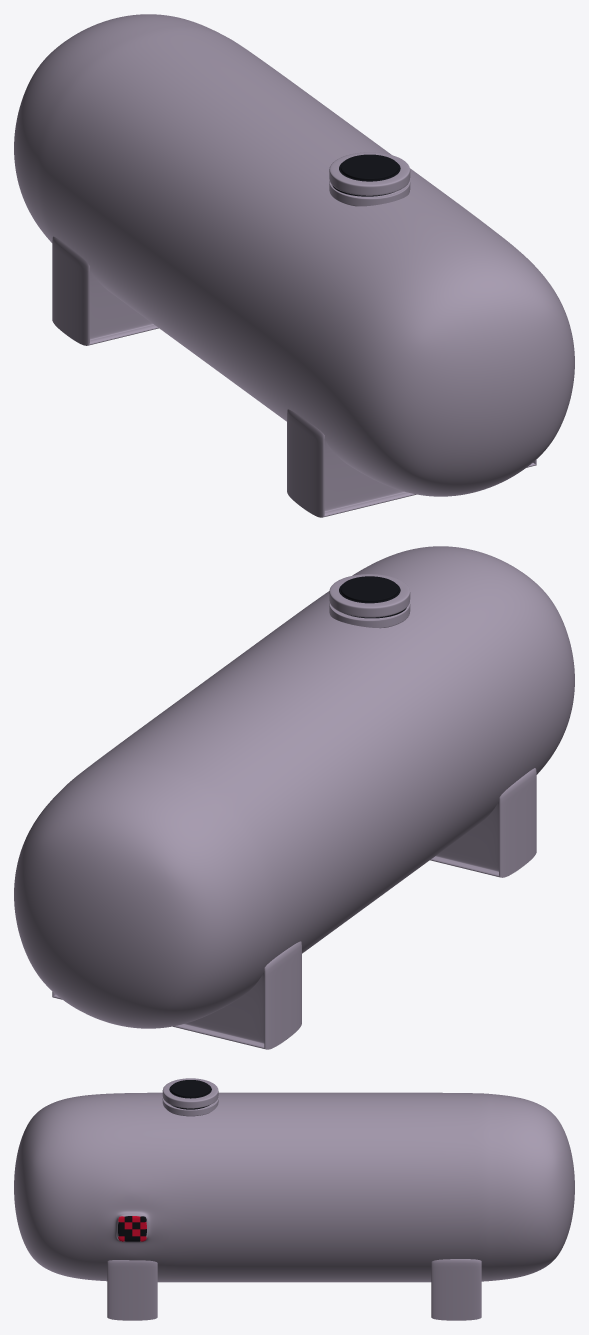
The model's file is gas-tank-high-poly.fbx.
3 views of the same model, one above another, from view 1: azimuth 30°, elevation 25°; view 2: azimuth 150°, elevation 25°; view 3: azimuth 270°, elevation 25° (orthographic). The views are drawn at different scales.
Parts seen in each view (by area): view 1: Cube; view 2: Cube; view 3: Cube.
Part boxes in pixels (x1,y1,x2,y2): Cube: (14,14,574,517); Cube: (14,546,574,1049); Cube: (14,1078,574,1320).
Size of the model in its own units: 330 by 370 by 961.
1 material, 1 textured.
